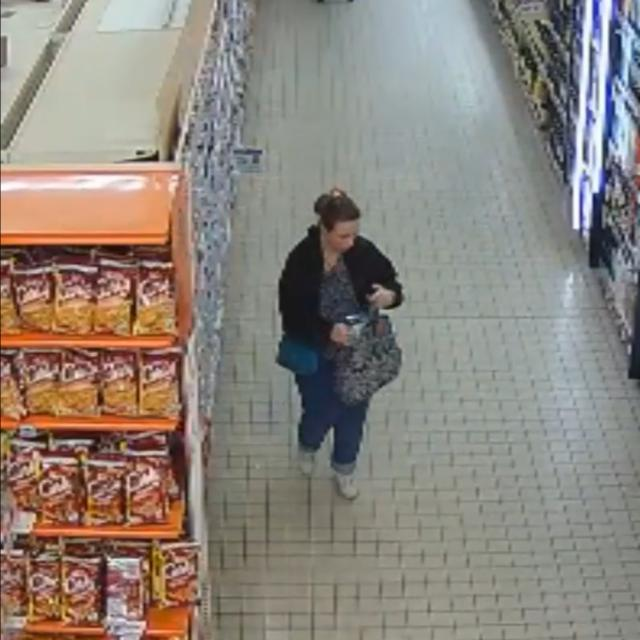article: (346, 315, 367, 345)
bags: (336, 313, 402, 405), (277, 335, 319, 376)
hands: (369, 285, 395, 309), (330, 324, 349, 346)
person: (279, 190, 402, 499)
